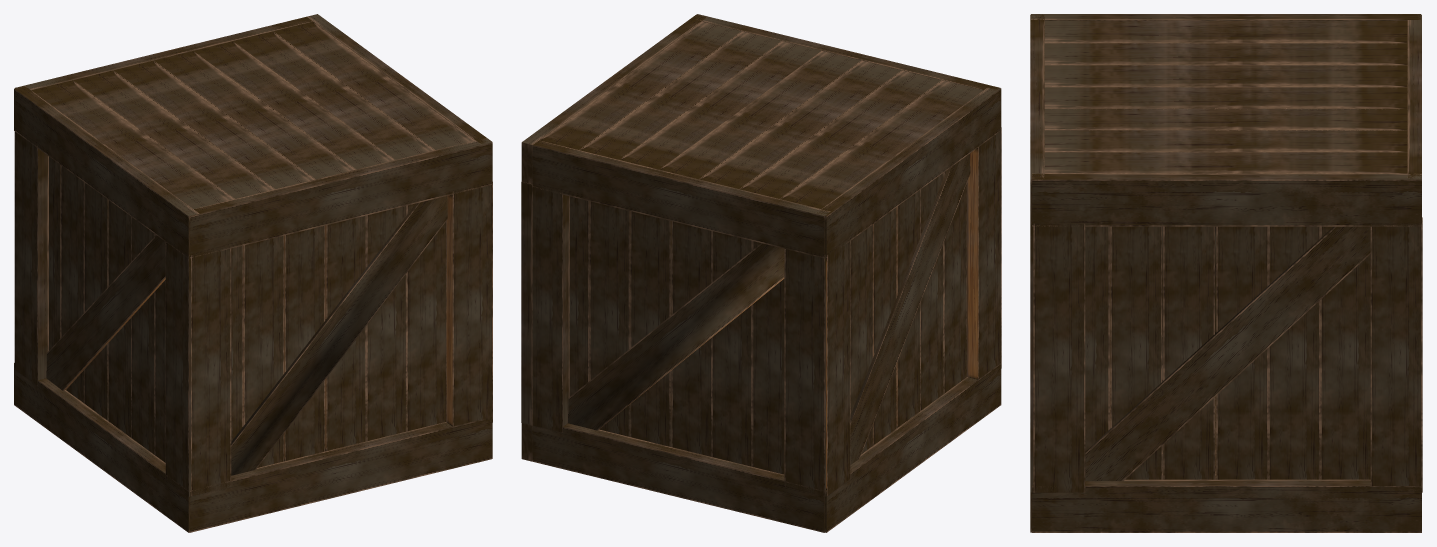
The picture shows the model from 3 angles, left to right: view 1: azimuth 30°, elevation 25°; view 2: azimuth 150°, elevation 25°; view 3: azimuth 270°, elevation 25°; orthographic projection. The views are drawn at different scales.
Visible parts, largest first — view 1: wood box; view 2: wood box; view 3: wood box.
Boxes of the visible parts, x1=… form: wood box: x1=14, y1=14, x2=492, y2=532; wood box: x1=521, y1=14, x2=1001, y2=532; wood box: x1=1030, y1=14, x2=1422, y2=532.
Size of the model in its own units: 302 by 300 by 302.
Materials: 1 (1 with a texture image).
